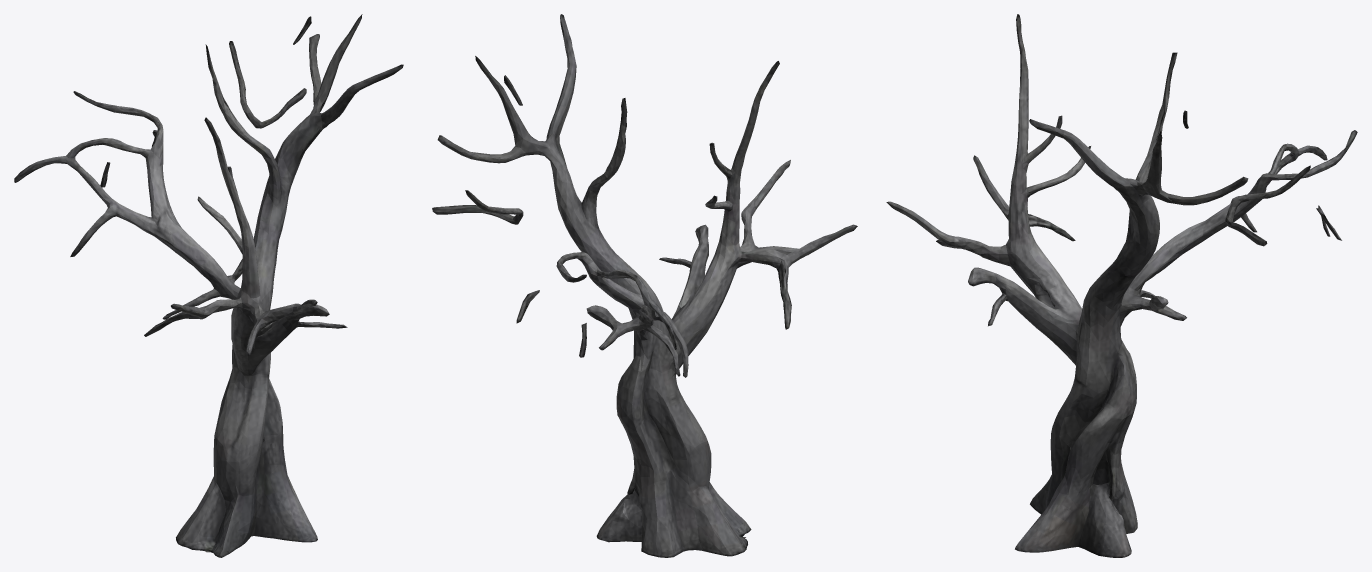
The model's file is deadtree.glb.
3 renders of one model, left to right at view 1: azimuth 30°, elevation 25°; view 2: azimuth 150°, elevation 25°; view 3: azimuth 270°, elevation 25°, orthographic. The views are drawn at different scales.
Parts seen in each view (by area): view 1: world; view 2: world; view 3: world.
Part boxes in pixels (<box>): world: <box>14,14,403,557</box>; world: <box>432,14,857,557</box>; world: <box>886,14,1357,557</box>.
Size of the model in its own units: 0.6492 by 1 by 0.8916.
Materials: 1 (1 with a texture image).
